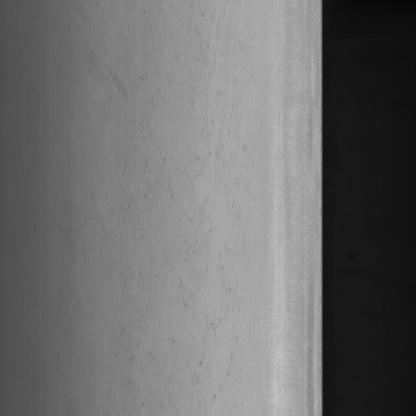silk_spot: (135, 35, 244, 382)
